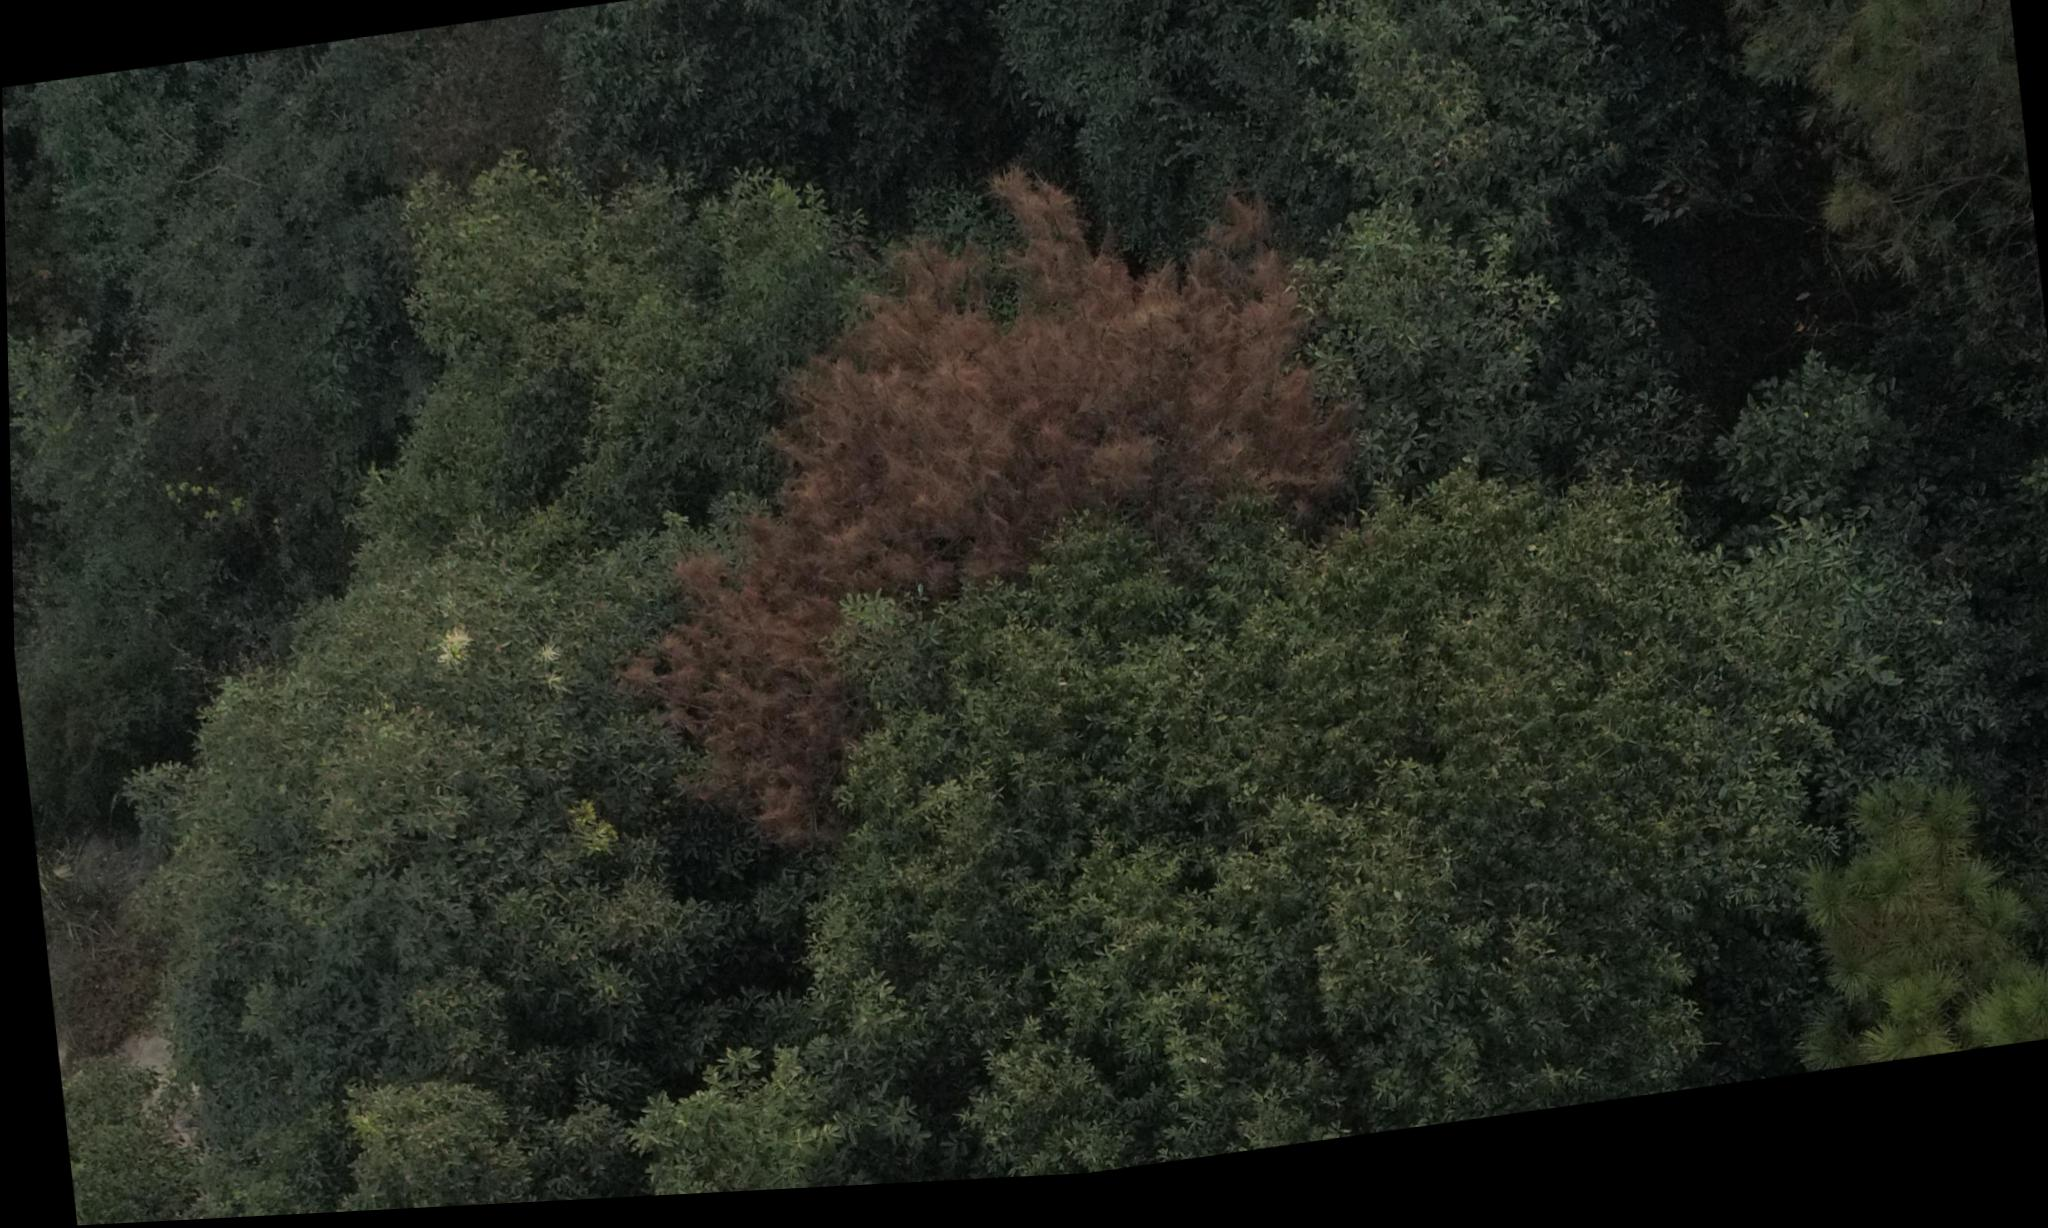heavy: (560, 129, 1384, 860)
